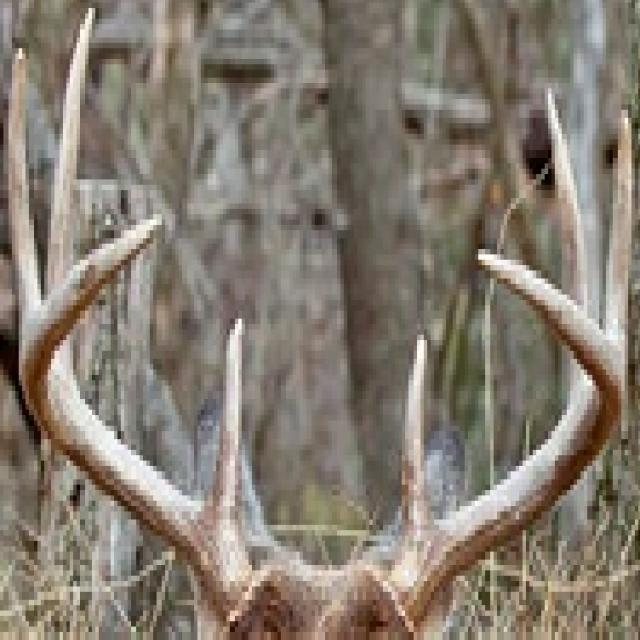L-F: (381, 250, 625, 635)
L-G1: (400, 331, 435, 545)
R-F: (18, 213, 268, 635)
R-G1: (208, 315, 248, 529)
